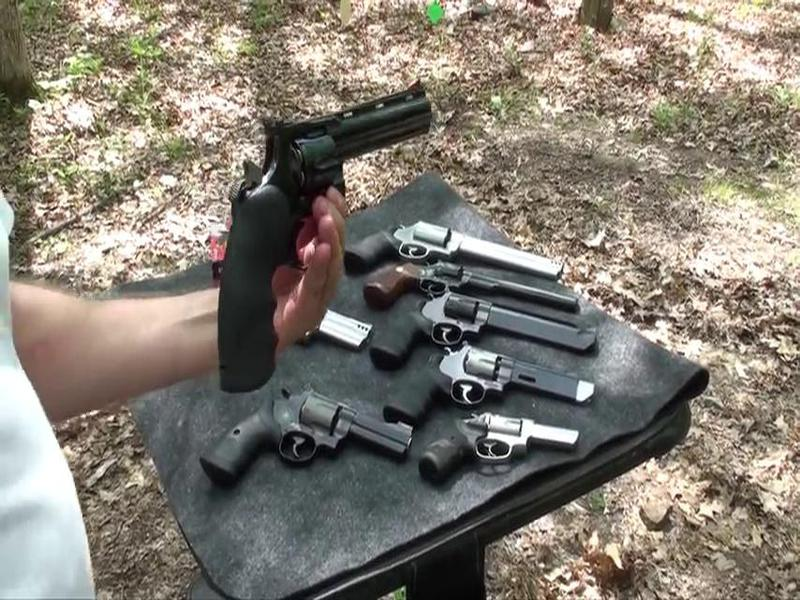Revolver: (195, 76, 447, 298)
